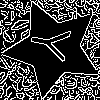Y: (28, 23, 81, 65)
